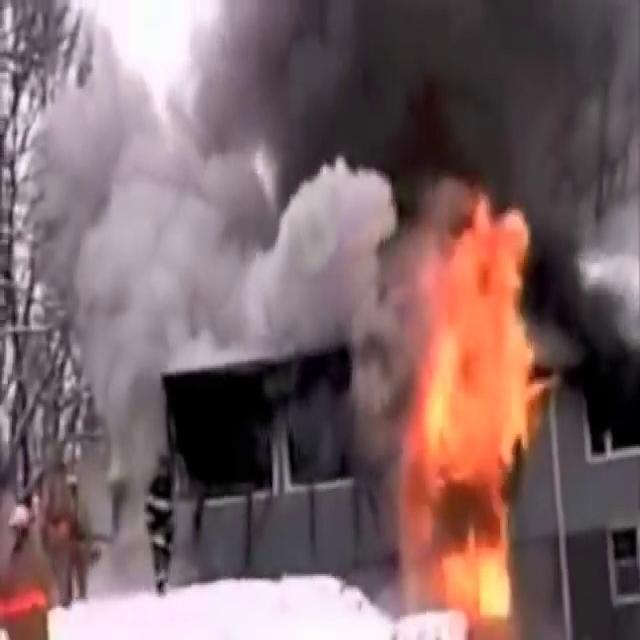Fire: (386, 183, 548, 626)
Smoke: (17, 0, 639, 402)
